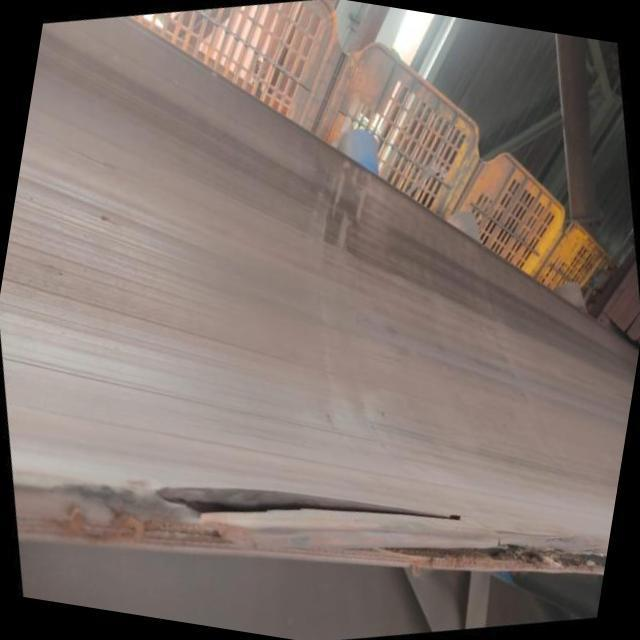Tear: (152, 460, 480, 534)
